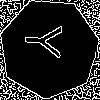Y: (24, 23, 72, 60)
